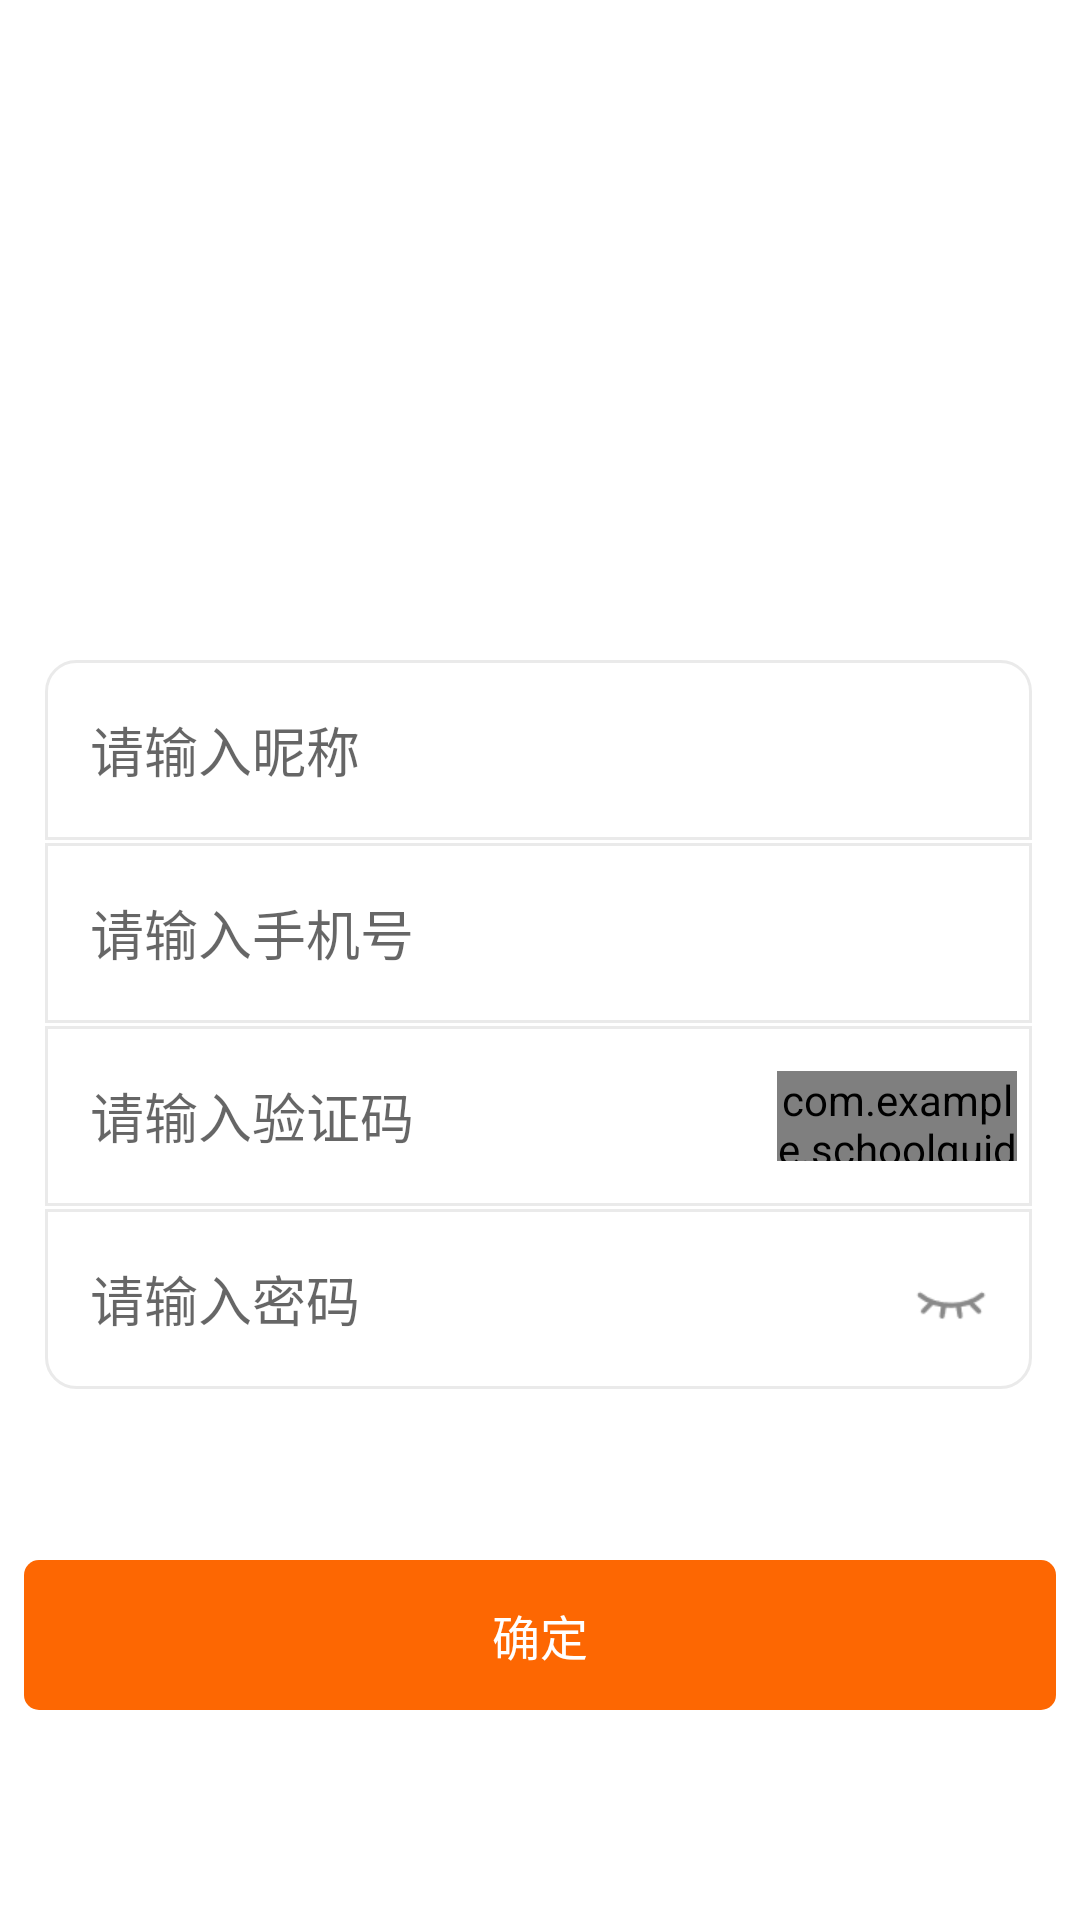

Named icons in this screenshot (1080*1920) and their centers, (x,y):
password unshow: (951,1305)
